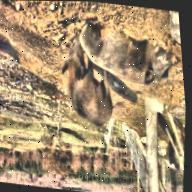boar: (79, 21, 185, 102), (51, 47, 133, 149)
